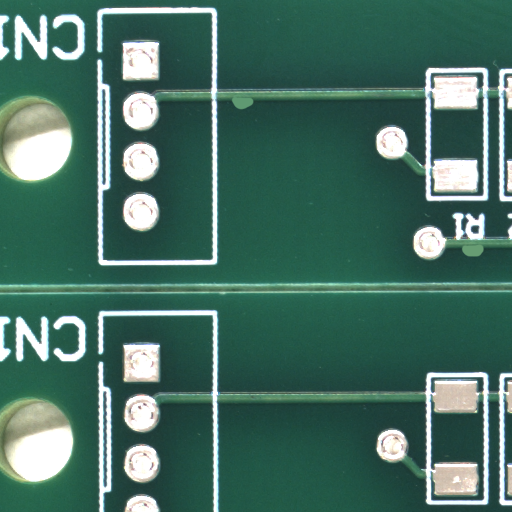Spur: (242, 103, 267, 116), (472, 251, 497, 264)
